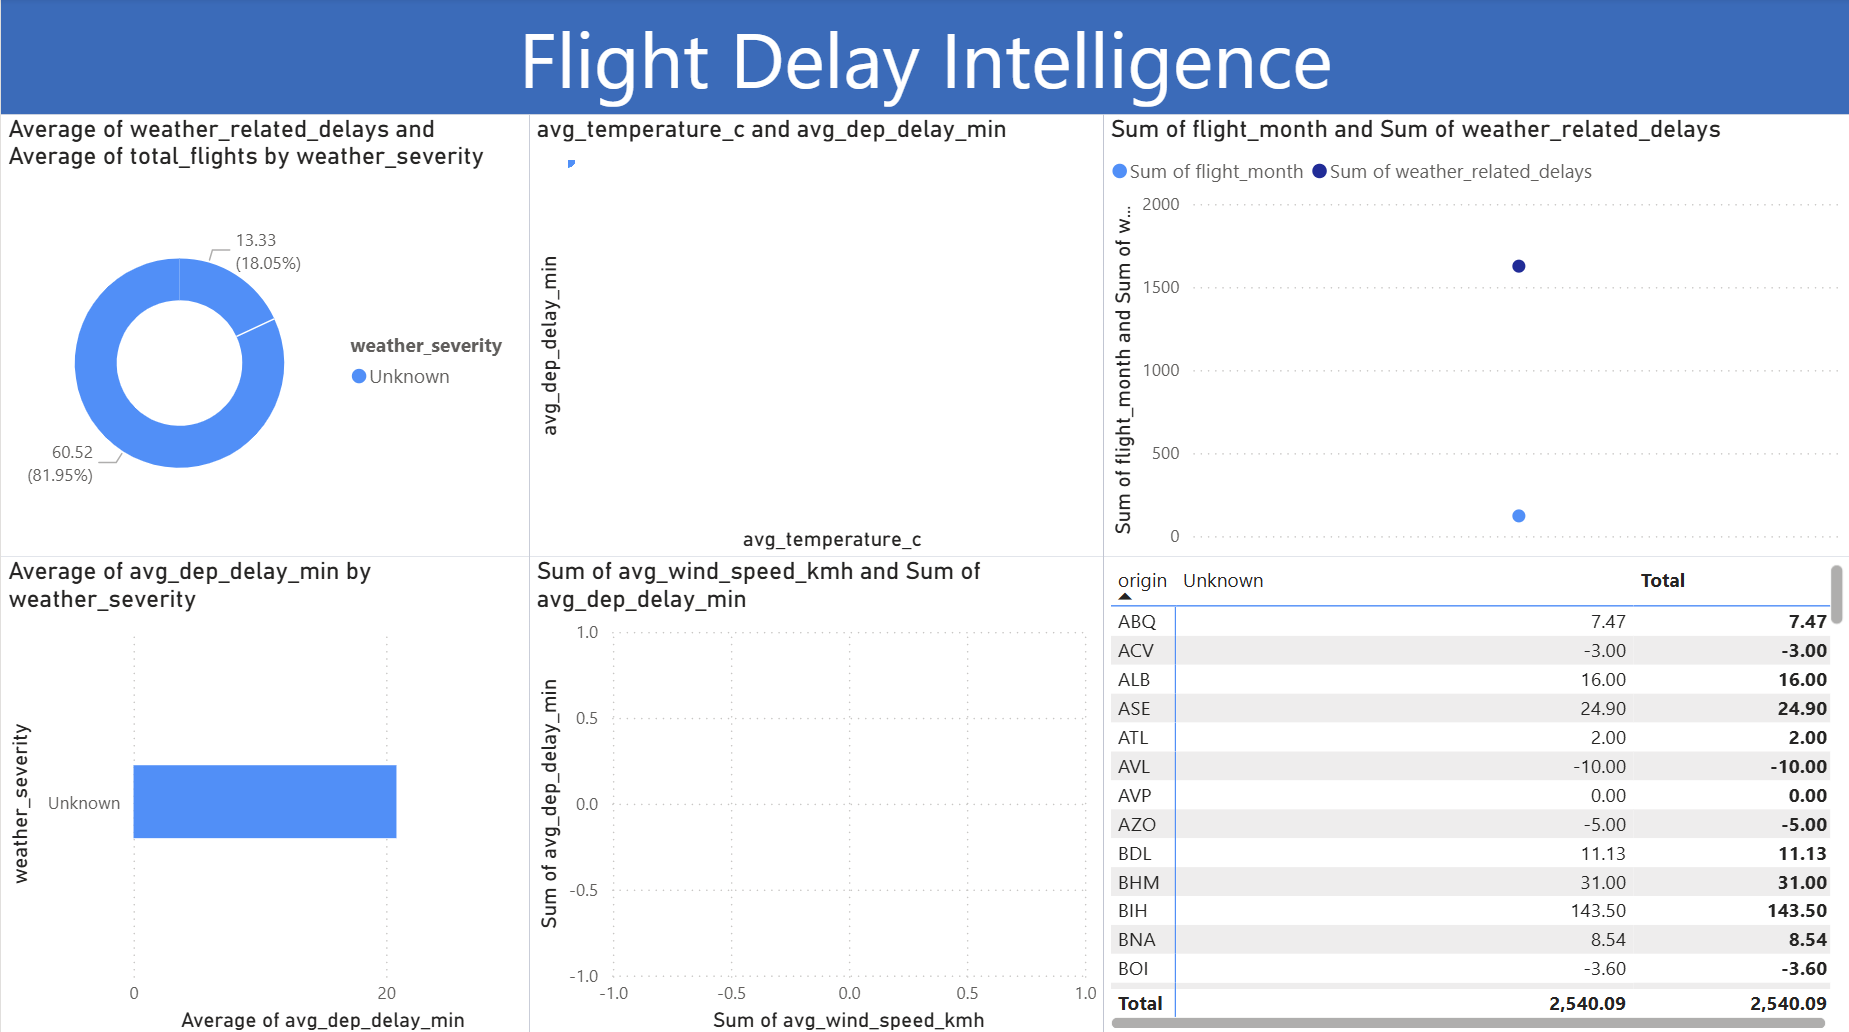

The page's visual inventory and layout, read from the dashboard file:
{"tool":"powerbi","page":{"name":"Weather Impact","canvas":[1280,720],"ordinal":3},"visuals":[{"type":"textbox","box":[0,0,1280,80.9],"z":0},{"type":"donutChart","fields":{"Category":["mart_delay_weather_correlation.weather_severity"],"Y":["Avg(mart_delay_weather_correlation.weather_related_delays)","Avg(mart_delay_weather_correlation.total_flights)"]},"box":[0,81.1,365.7,306.4],"z":1000},{"type":"clusteredBarChart","fields":{"Category":["mart_delay_weather_correlation.weather_severity"],"Y":["Avg(mart_delay_weather_correlation.avg_dep_delay_min)"]},"box":[0,387.5,365.7,333],"z":2000},{"type":"scatterChart","fields":{"X":["mart_delay_weather_correlation.avg_temperature_c"],"Y":["mart_delay_weather_correlation.avg_dep_delay_min"]},"box":[365.7,81.1,397.2,306.4],"z":3000},{"type":"scatterChart","fields":{"X":["Sum(mart_delay_weather_correlation.avg_wind_speed_kmh)"],"Y":["Sum(mart_delay_weather_correlation.avg_dep_delay_min)"]},"box":[365.7,387.5,397.2,333],"z":4000},{"type":"lineChart","fields":{"Y":["Sum(mart_delay_weather_correlation.flight_month)","Sum(mart_delay_weather_correlation.weather_related_delays)"]},"box":[763,81,517,306],"z":5000},{"type":"pivotTable","fields":{"Columns":["mart_delay_weather_correlation.weather_severity"],"Rows":["mart_delay_weather_correlation.origin"],"Values":["Sum(mart_delay_weather_correlation.avg_dep_delay_min)"]},"box":[763,388,517,332],"z":6000}]}

Visuals, with their boxes in screenshot pixels (x1, y1, x2, y2), scaled from the page's 1280x720 canvas onto the 1849x1032 screenshot:
textbox: left=0, top=0, right=1848, bottom=116
donutChart - mart_delay_weather_correlation.weather_severity x Avg(mart_delay_weather_correlation.weather_related_delays): left=0, top=116, right=528, bottom=555
clusteredBarChart - mart_delay_weather_correlation.weather_severity x Avg(mart_delay_weather_correlation.avg_dep_delay_min): left=0, top=555, right=528, bottom=1031
scatterChart - mart_delay_weather_correlation.avg_temperature_c x mart_delay_weather_correlation.avg_dep_delay_min: left=528, top=116, right=1102, bottom=555
scatterChart - Sum(mart_delay_weather_correlation.avg_wind_speed_kmh) x Sum(mart_delay_weather_correlation.avg_dep_delay_min): left=528, top=555, right=1102, bottom=1031
lineChart - Sum(mart_delay_weather_correlation.flight_month) x Sum(mart_delay_weather_correlation.weather_related_delays): left=1102, top=116, right=1848, bottom=555
pivotTable - mart_delay_weather_correlation.weather_severity x mart_delay_weather_correlation.origin: left=1102, top=556, right=1848, bottom=1031
